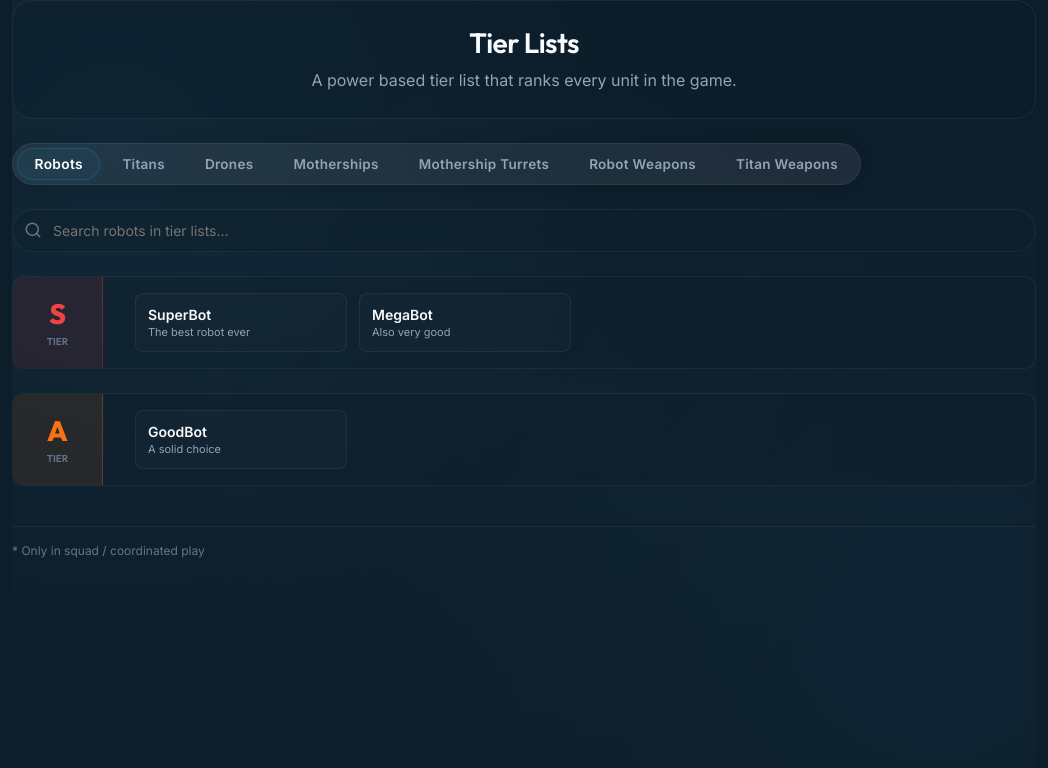
Test case: TierListTab › changes category when clicking a tab pill
Click Titans category
Click the button "Titans" at x=144, y=164, box [104,148,183,180]
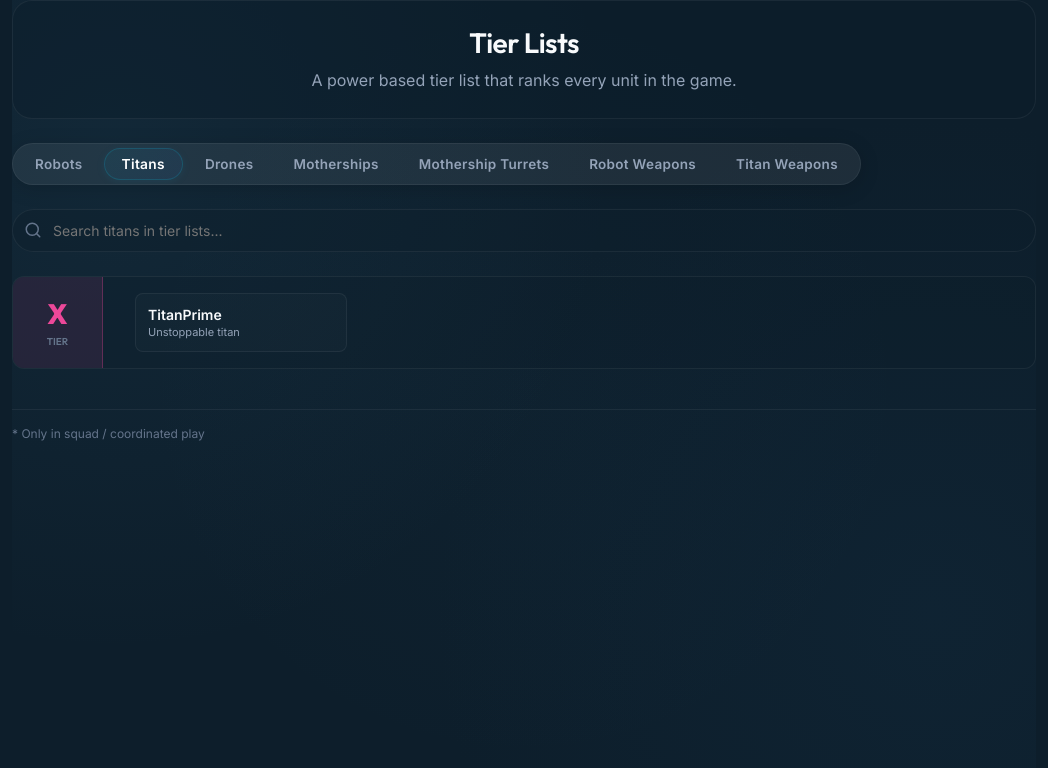
Expected: the text "TitanPrime" is shown, [148,306,222,323]
Expected: the text "Unstoppable titan" is shown, [148,325,240,339]
Expected: the text "X" is shown, [47,296,68,331]
